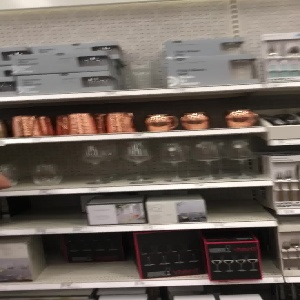void: (34, 233, 134, 285), (1, 192, 86, 232), (206, 180, 271, 222)
